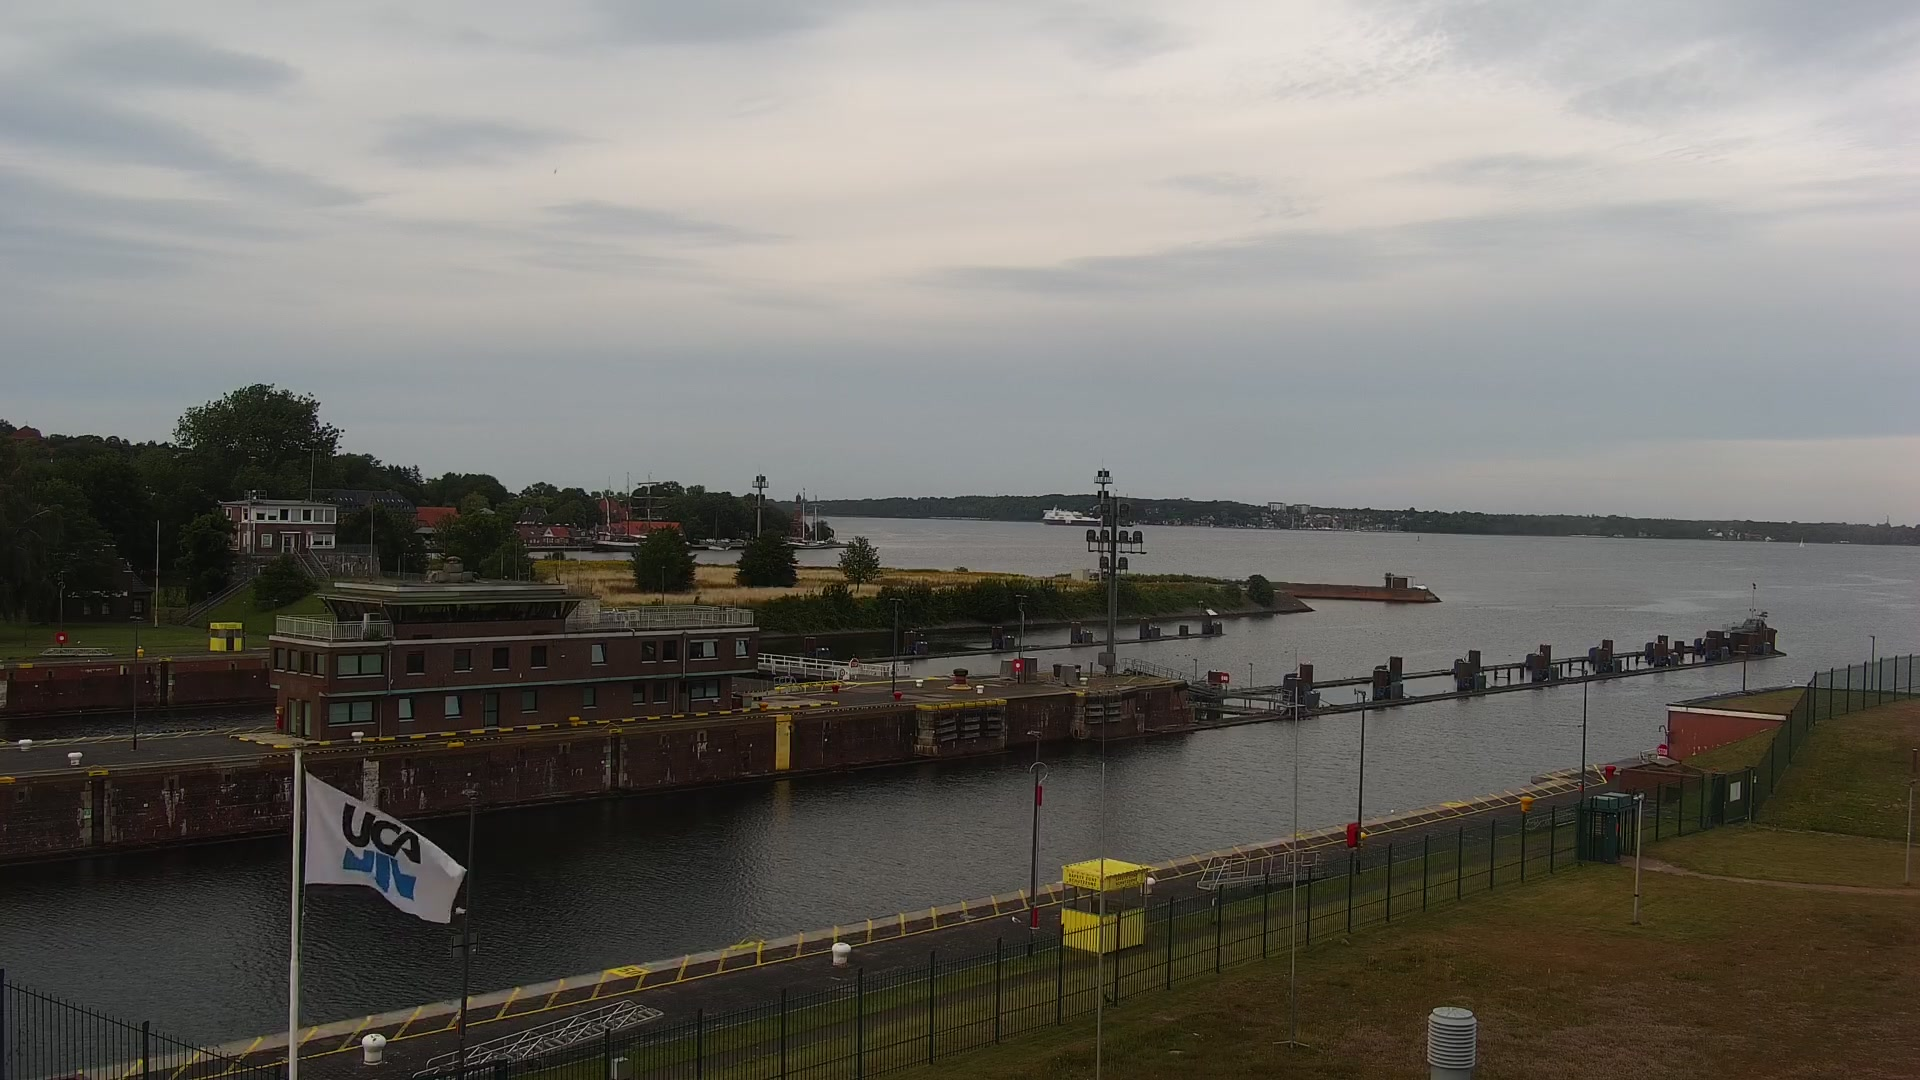sea: (593, 469, 665, 550), (787, 495, 828, 549), (1042, 502, 1101, 525), (705, 506, 731, 551), (1797, 535, 1804, 547)
